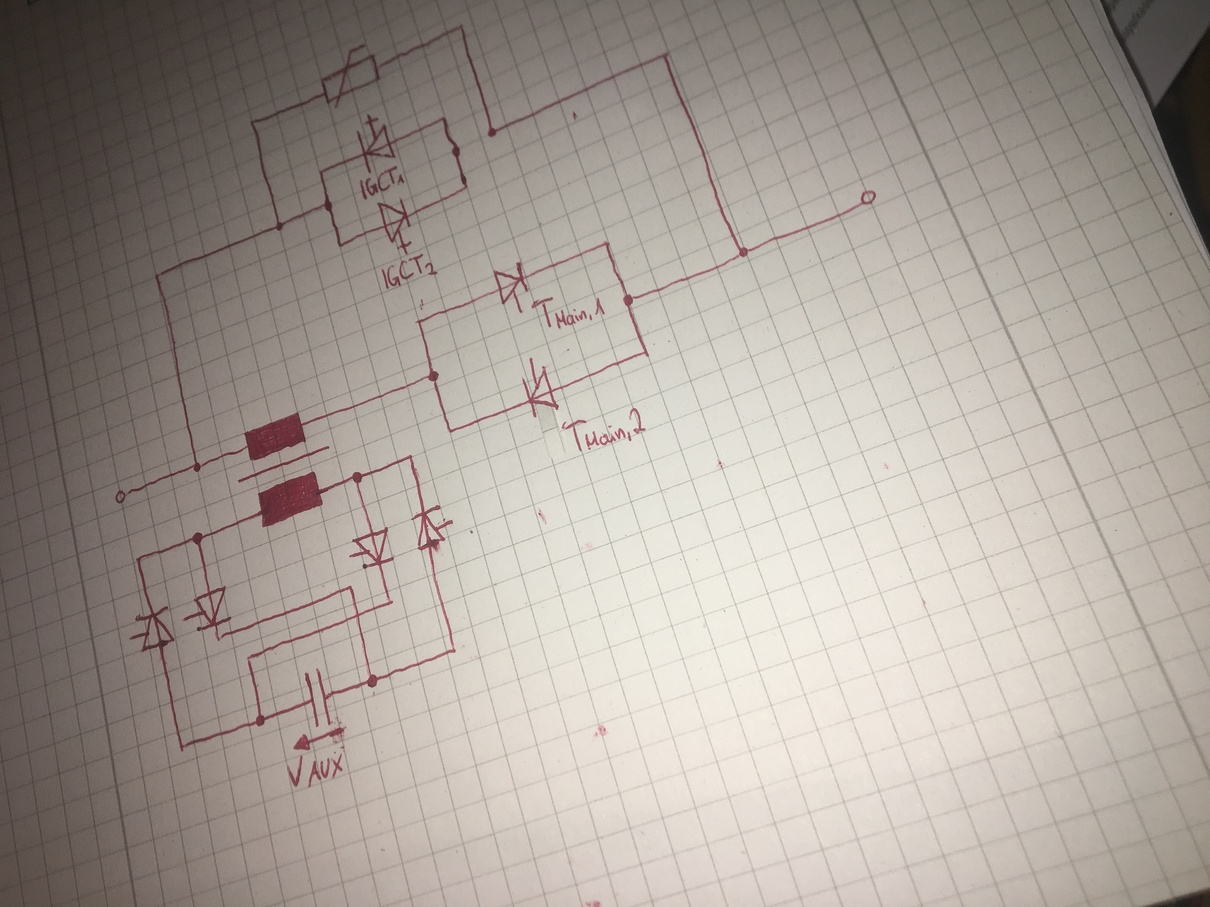capacitor.unpolarized: (303, 666, 333, 728)
crossover: (352, 610, 364, 621)
junction: (736, 245, 750, 261), (365, 673, 379, 689), (254, 713, 268, 728), (191, 531, 205, 546), (427, 369, 441, 383), (622, 293, 635, 308), (459, 179, 472, 193), (486, 126, 499, 140), (351, 471, 364, 484), (323, 198, 334, 213), (659, 49, 671, 62), (640, 348, 652, 360), (178, 741, 189, 753), (274, 220, 285, 232), (385, 596, 396, 607), (192, 461, 202, 473), (213, 633, 226, 642), (602, 239, 612, 250), (445, 426, 456, 436), (153, 271, 164, 281), (248, 117, 258, 128), (449, 645, 459, 655), (134, 555, 144, 565), (317, 167, 327, 177), (346, 583, 356, 593), (335, 241, 346, 250), (440, 114, 449, 125), (415, 317, 424, 327), (407, 452, 416, 462), (245, 653, 254, 663), (457, 22, 466, 32)
terminal: (859, 187, 878, 208), (113, 488, 131, 505)
text: (561, 406, 647, 455), (530, 295, 607, 330), (380, 252, 439, 290), (285, 753, 345, 788), (358, 164, 405, 201)
thyristor: (356, 117, 396, 173), (521, 365, 560, 418), (134, 605, 176, 653), (377, 197, 413, 250), (351, 526, 395, 569), (193, 586, 232, 632), (491, 260, 529, 305), (410, 504, 447, 550)
transformer: (236, 410, 331, 528)
varistor: (319, 43, 383, 109)
